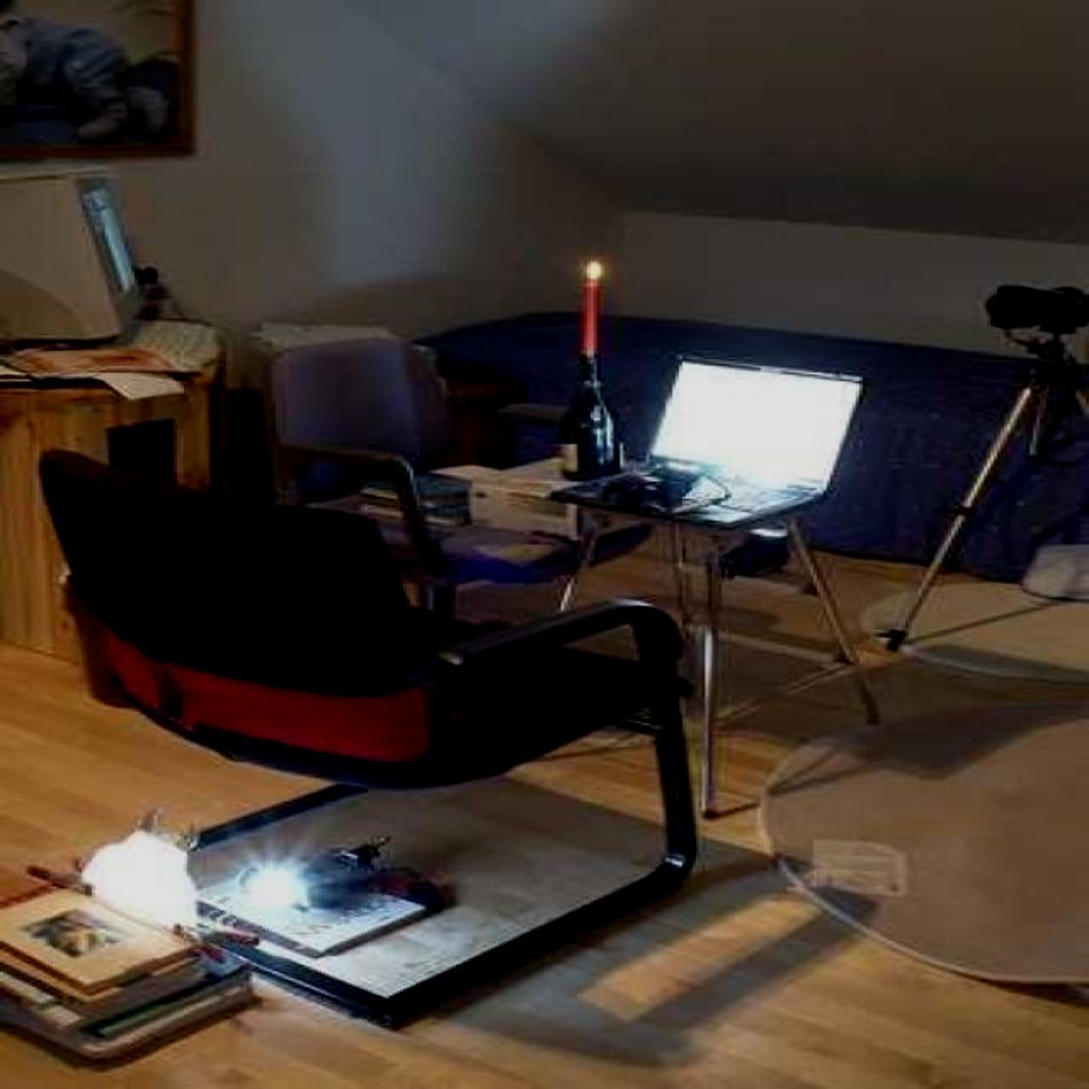laptop: (575, 359, 868, 526)
